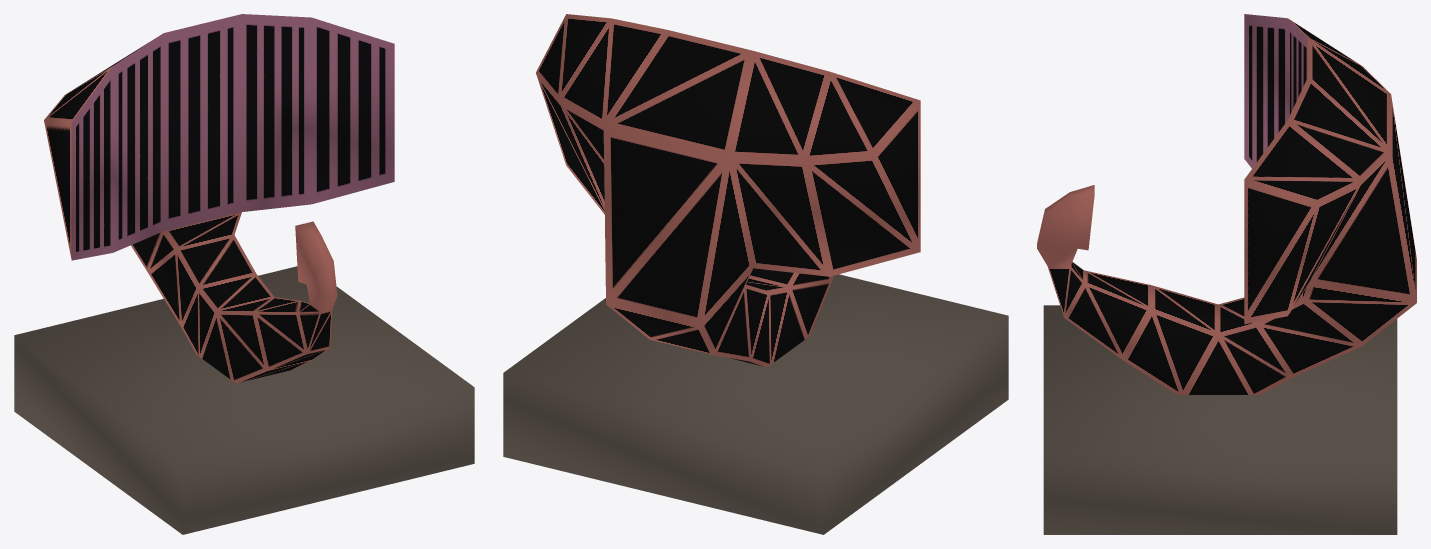
The model's file is radar.glb.
The picture shows the model from 3 angles, left to right: view 1: azimuth 30°, elevation 25°; view 2: azimuth 150°, elevation 25°; view 3: azimuth 270°, elevation 25°; orthographic projection. The views are drawn at different scales.
Visible parts, largest first — view 1: radar; view 2: radar; view 3: radar.
Part boxes in pixels (box(x1,y1,x2,y2)): radar: box(14, 14, 474, 534); radar: box(503, 14, 1008, 534); radar: box(1037, 14, 1416, 534).
Bounding box in the file's own units: 0.8848 × 1 × 0.8585.
Materials: 1 (1 with a texture image).
